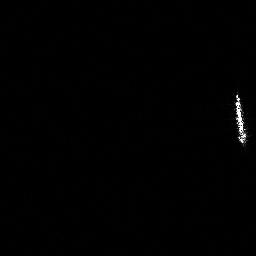ship: (229, 88, 251, 150)
